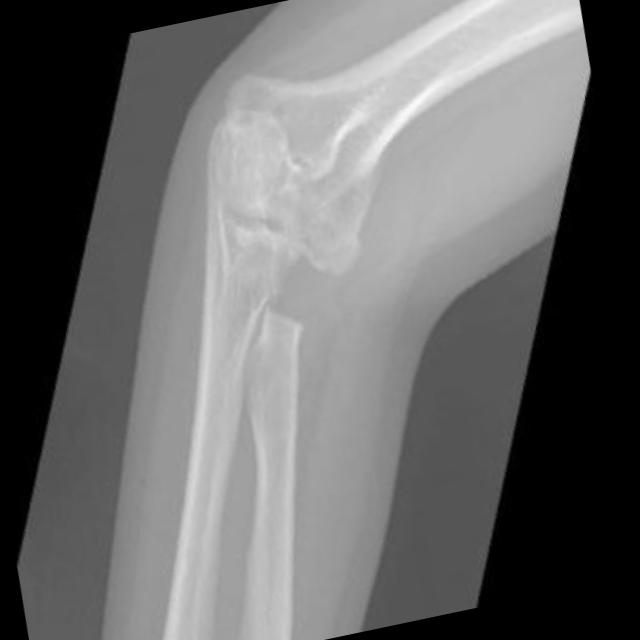fracture: (254, 236, 351, 345)
